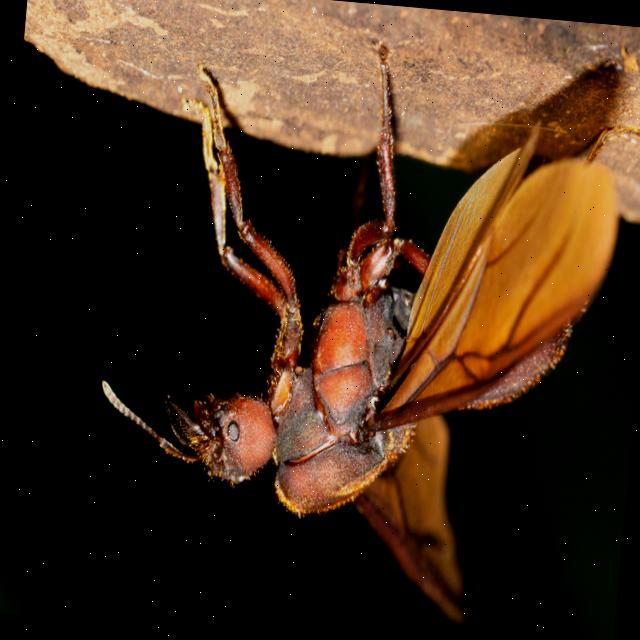Alive-Female-Alate: (83, 38, 640, 640)
